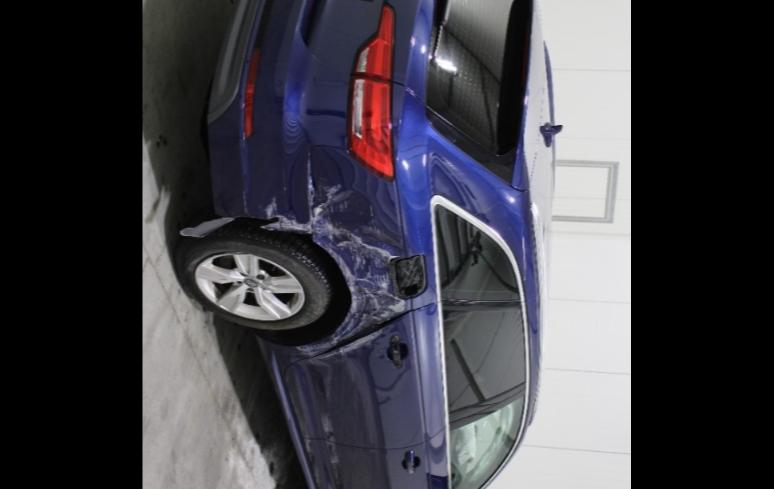Broken part: (180, 150, 318, 242), (302, 308, 422, 360), (180, 216, 236, 236)
Dent: (256, 142, 412, 360), (304, 364, 330, 410)
Missing part: (390, 254, 427, 298)
Paint chip: (258, 148, 410, 360), (298, 354, 346, 489), (308, 328, 384, 406), (288, 390, 322, 486)
